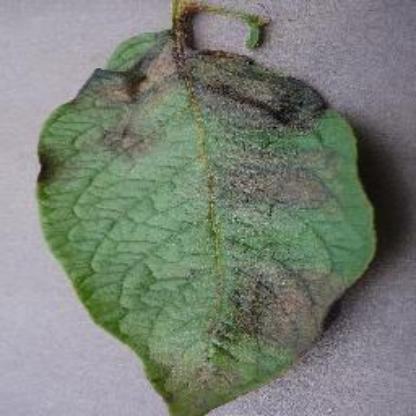Late-Blight: (25, 4, 393, 416)
